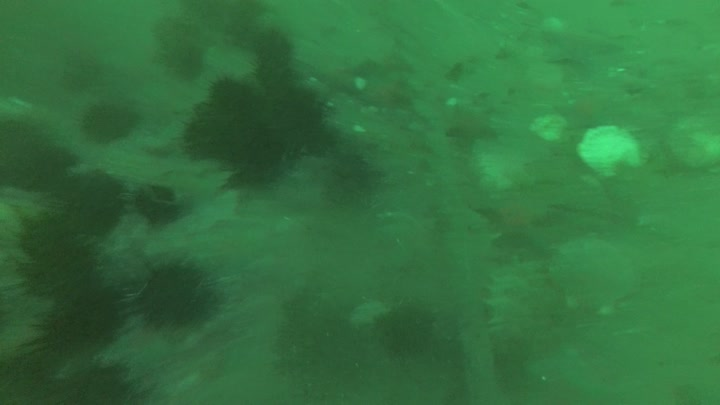echinus: (23, 276, 137, 360), (132, 254, 225, 335), (16, 236, 104, 305), (51, 166, 131, 236), (14, 205, 98, 270), (50, 362, 158, 405), (373, 300, 441, 361), (230, 123, 292, 188), (19, 143, 84, 194), (78, 98, 147, 145), (1, 356, 65, 405), (268, 84, 327, 133), (134, 181, 191, 230), (179, 113, 239, 159), (204, 73, 263, 112), (251, 29, 300, 72), (171, 45, 210, 82)
holothurian: (486, 258, 555, 354)
scallop: (547, 233, 640, 313)
starfish: (470, 188, 567, 250), (542, 26, 626, 71), (354, 68, 416, 114), (558, 90, 620, 132)
